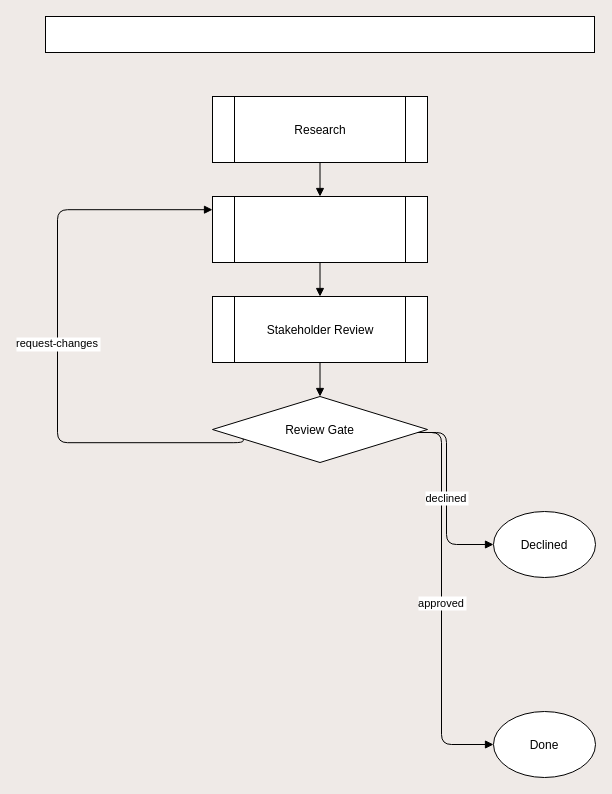
Some shapes in this 612 by 794 pixel diagram are drawn without their labels. The centre of each missing label's shape, as x and y in pixels:
"Product Management Discovery workflow" goes at (319,34).
"Synthesis" goes at (320,229).
